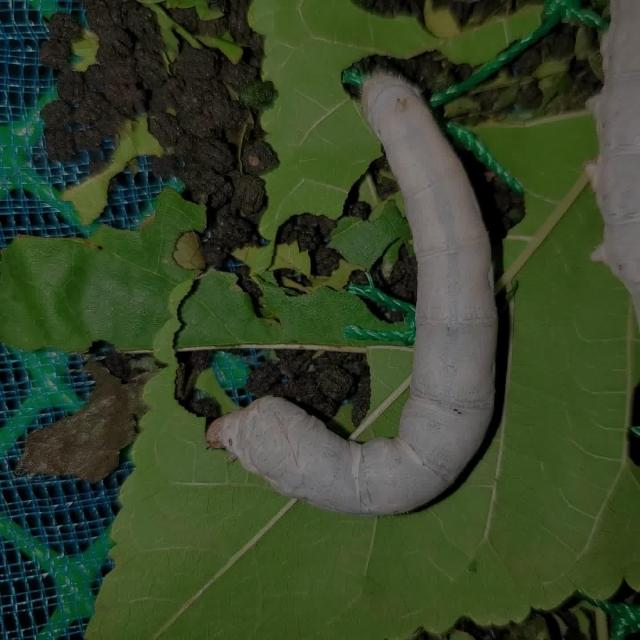Healthy: (194, 70, 506, 522)
